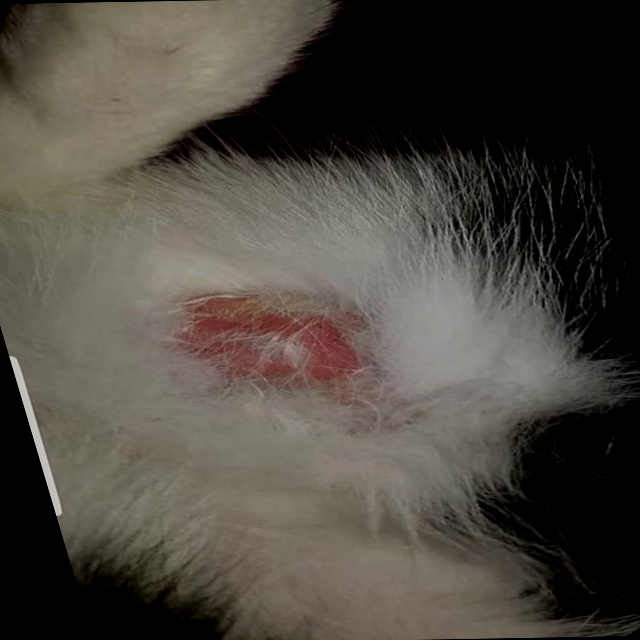lump_and_bump: (191, 299, 371, 403)
